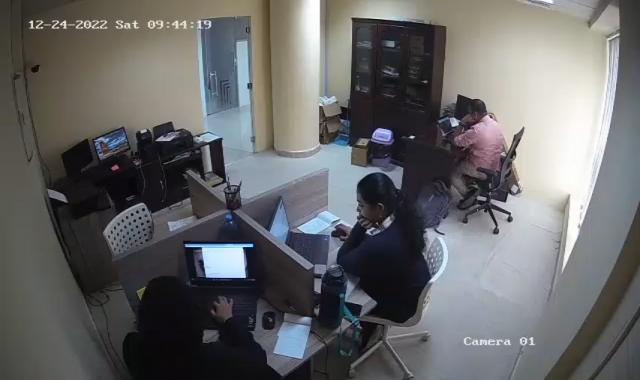no_hairnet: (140, 280, 199, 338), (354, 170, 398, 222), (468, 98, 488, 124)
